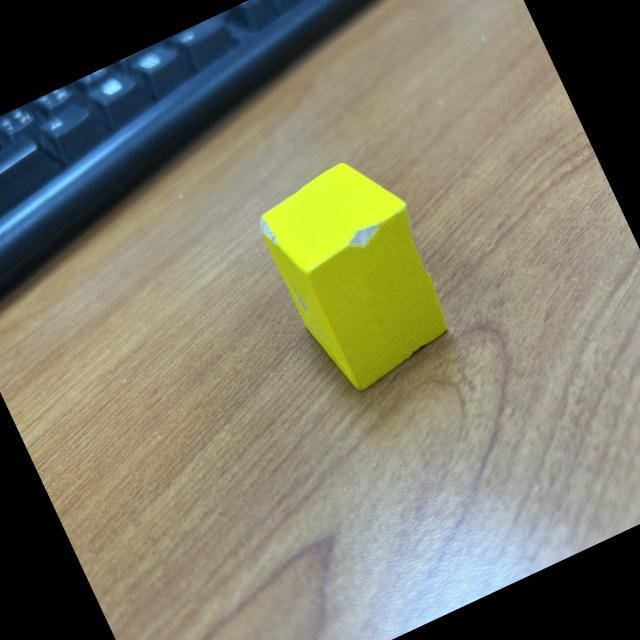broken: (249, 144, 471, 402)
